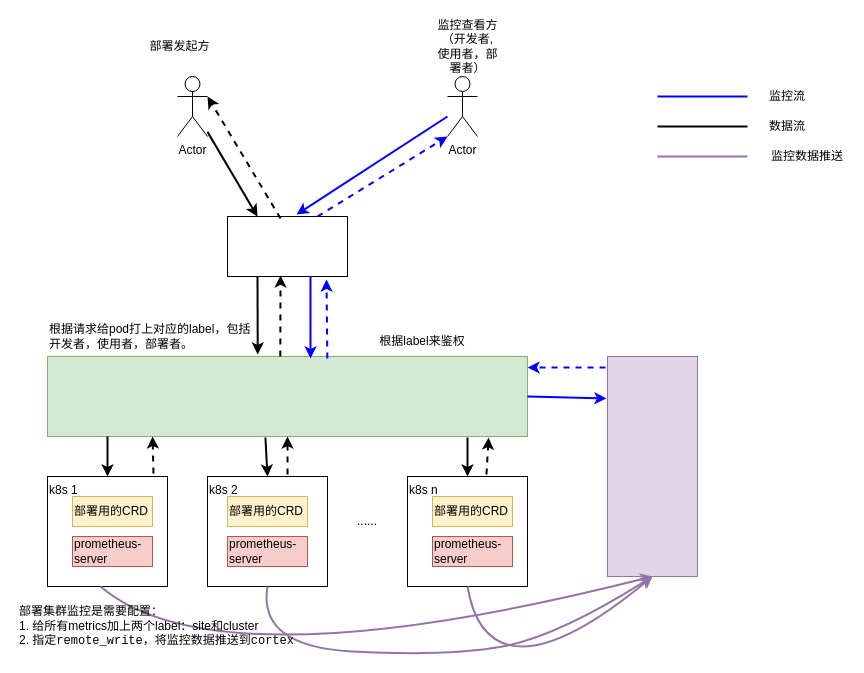
The diagram is 864 pixels wide and 673 high, and some of its shapes have lost their labels. Here are the shapes that lost their labels. From the top down, the box of each, then its label:
(226, 216, 348, 276): OA???
(46, 356, 528, 436): 部署服务
(606, 356, 698, 576): 数据平台 (cortex)
